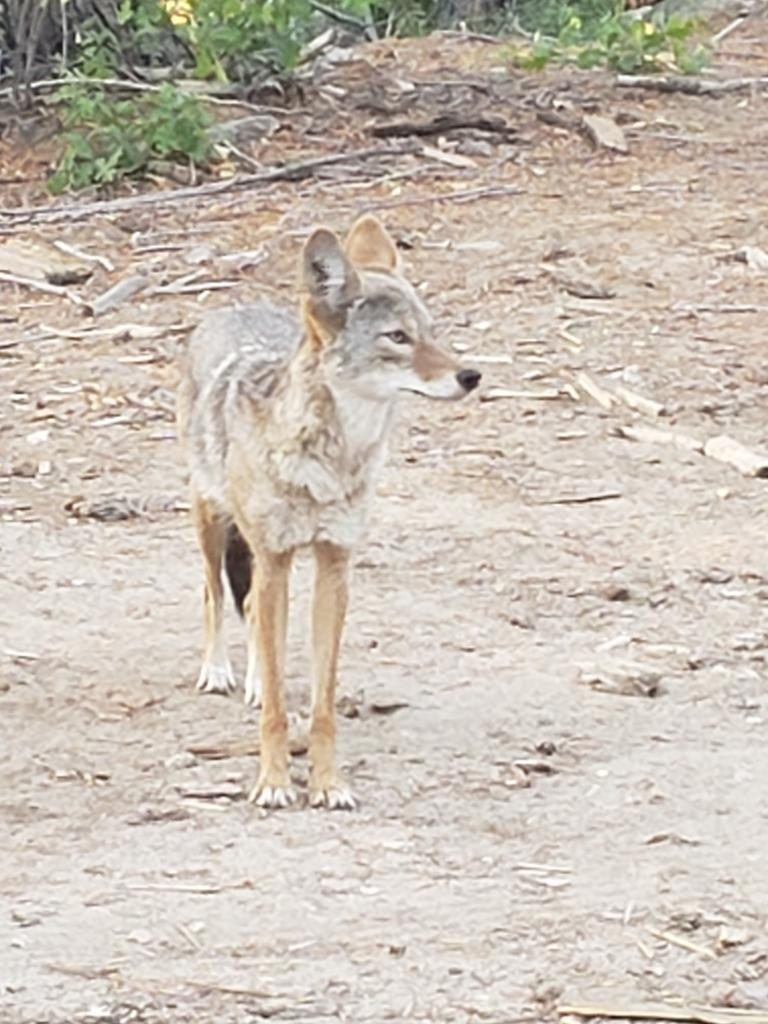Coyote: (181, 206, 483, 814)
